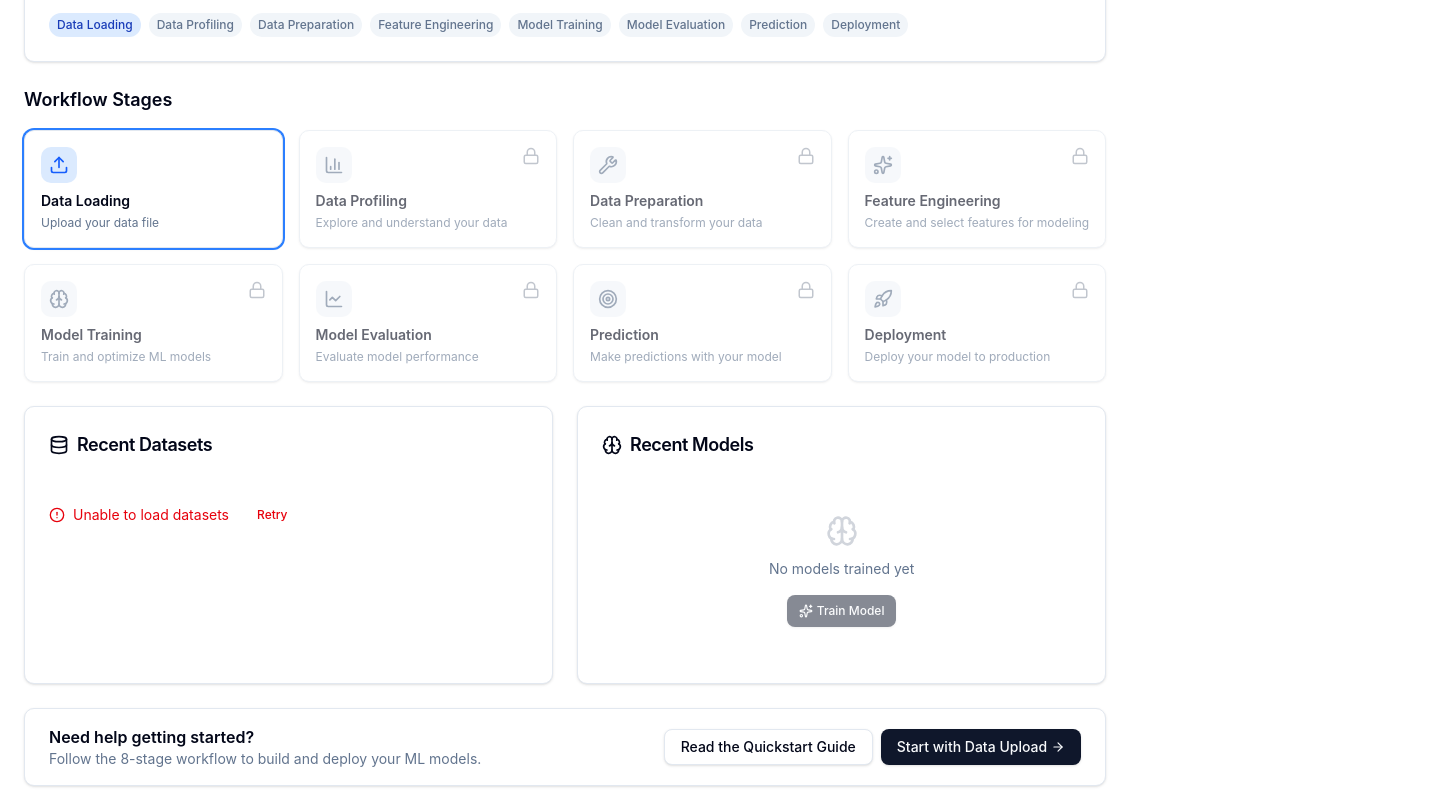
it: DashboardPage › Error Retry Functionality › retries datasets fetch when Retry button is clicked
(page scrolled)
Expected: the text "Unable to load datasets" is shown, [73,505,229,525]
Click the button "Retry". click: (272,515)
box: [245,499,300,531]
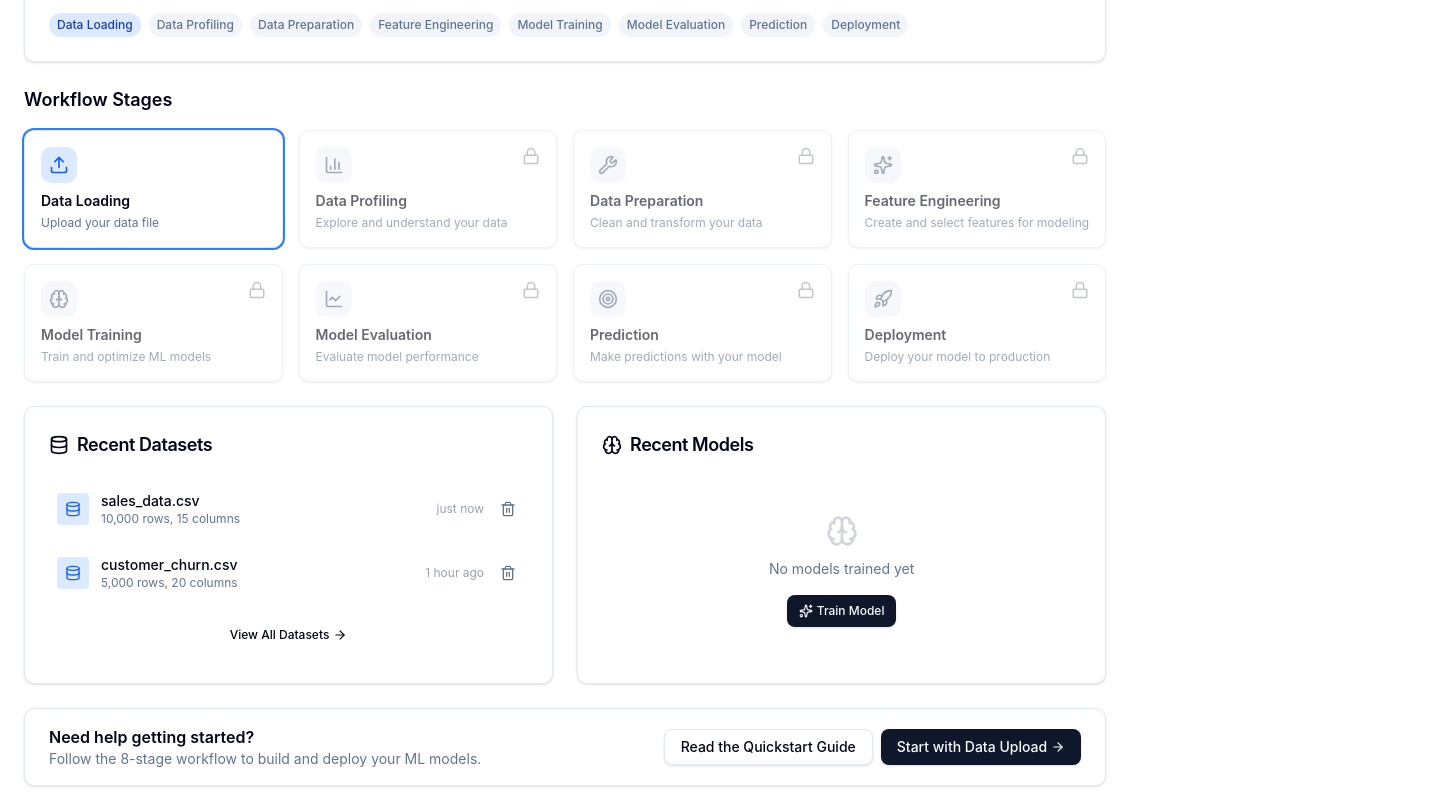
Expected: the text "sales_data.csv" is shown, [101,492,200,509]
